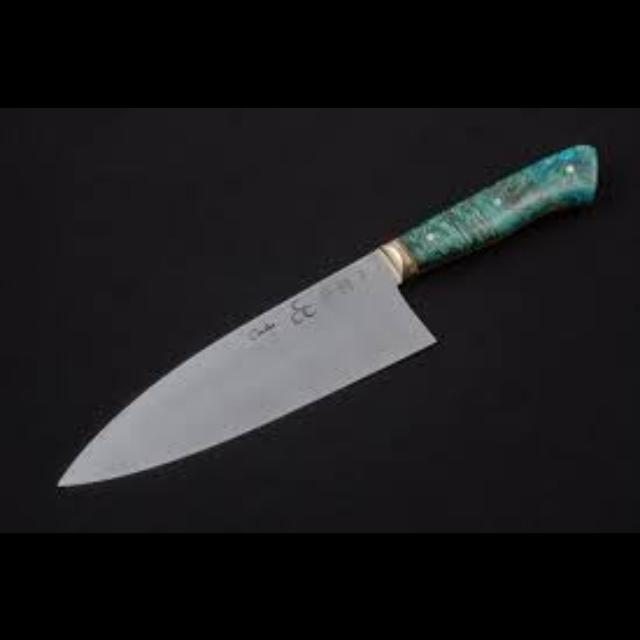knife: (54, 140, 600, 490)
